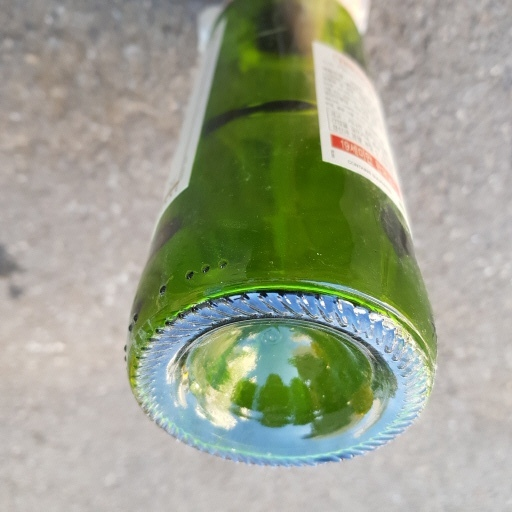Glass_2: (120, 1, 440, 469)
